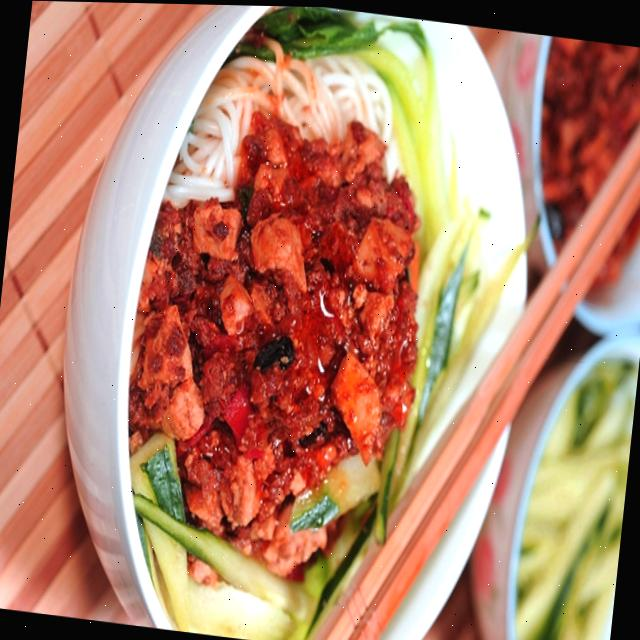面条主食: (48, 1, 575, 640)
